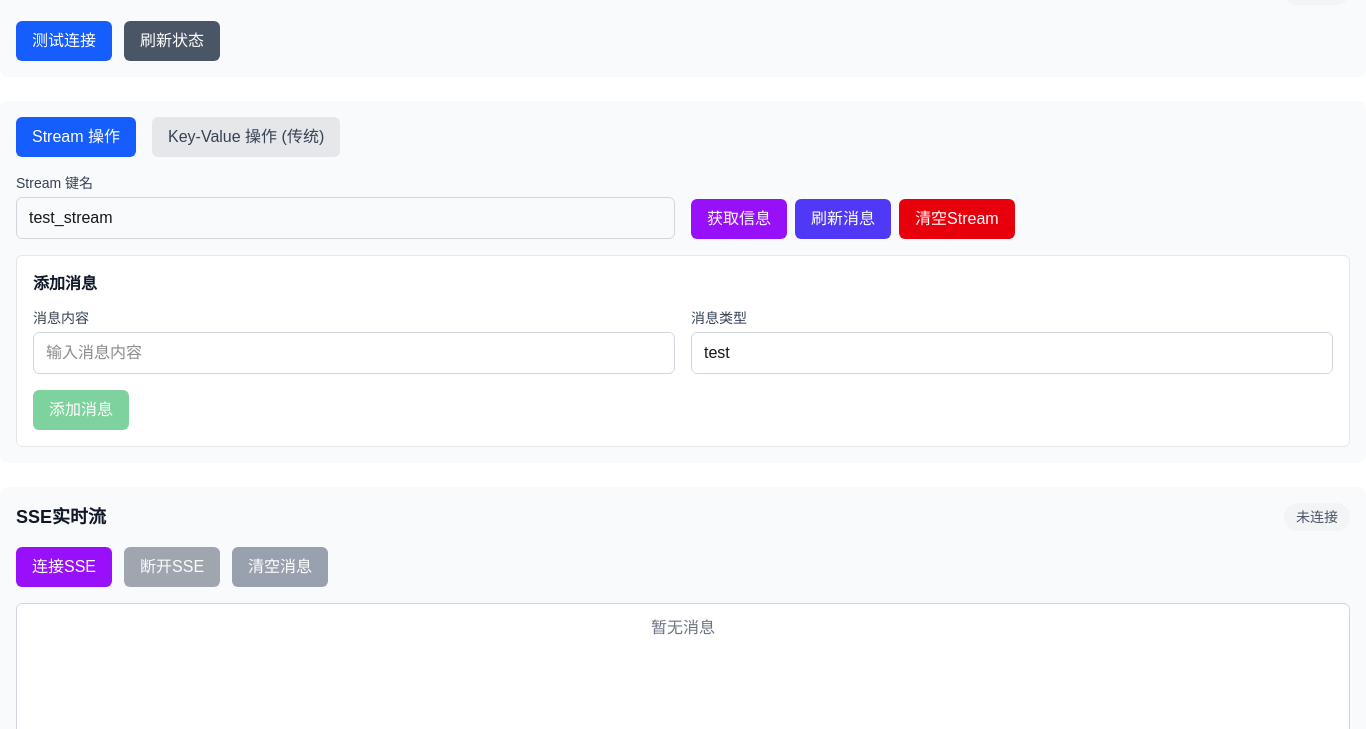
RedisTestComponent › 错误处理 › 应该处理网络错误
Click the button "测试连接". click: (64, 41)
box: [16,21,112,61]
(page scrolled)
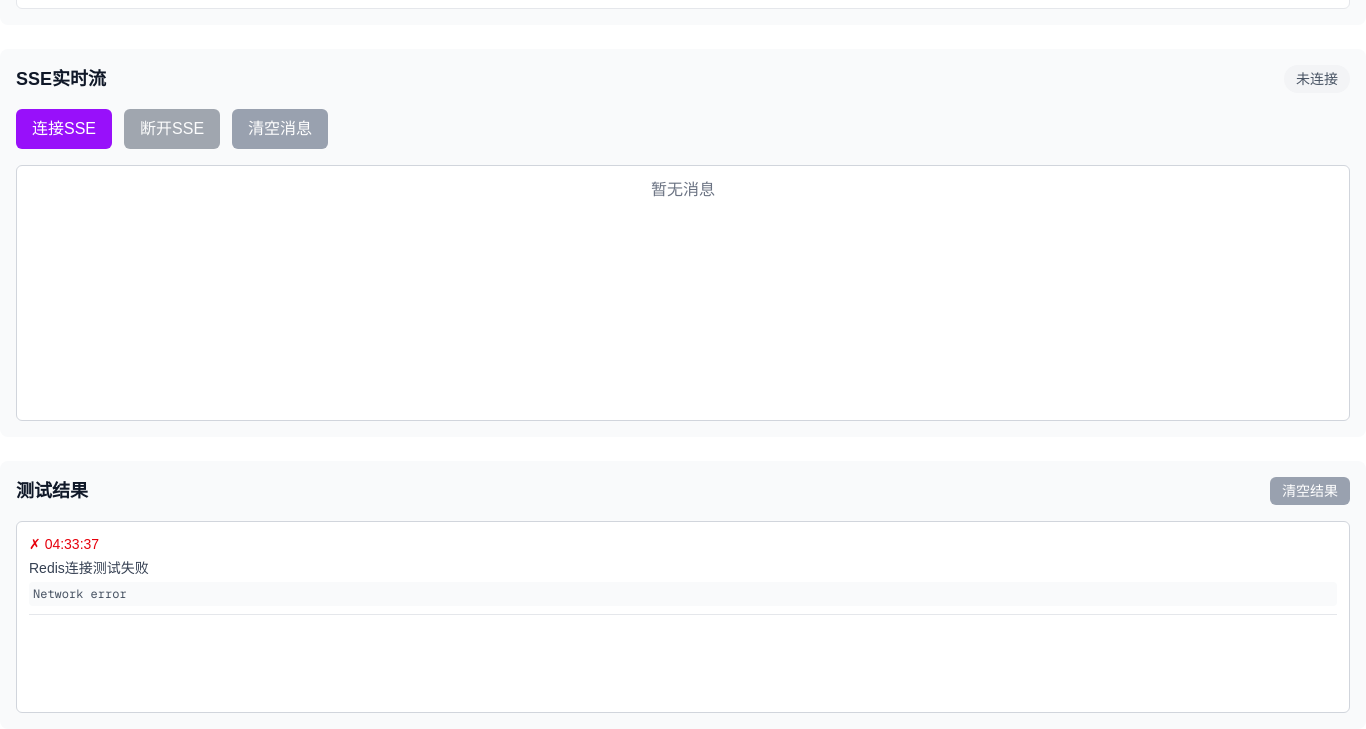
expect the text "Network error" is shown: met, box [29,582,1337,606]
